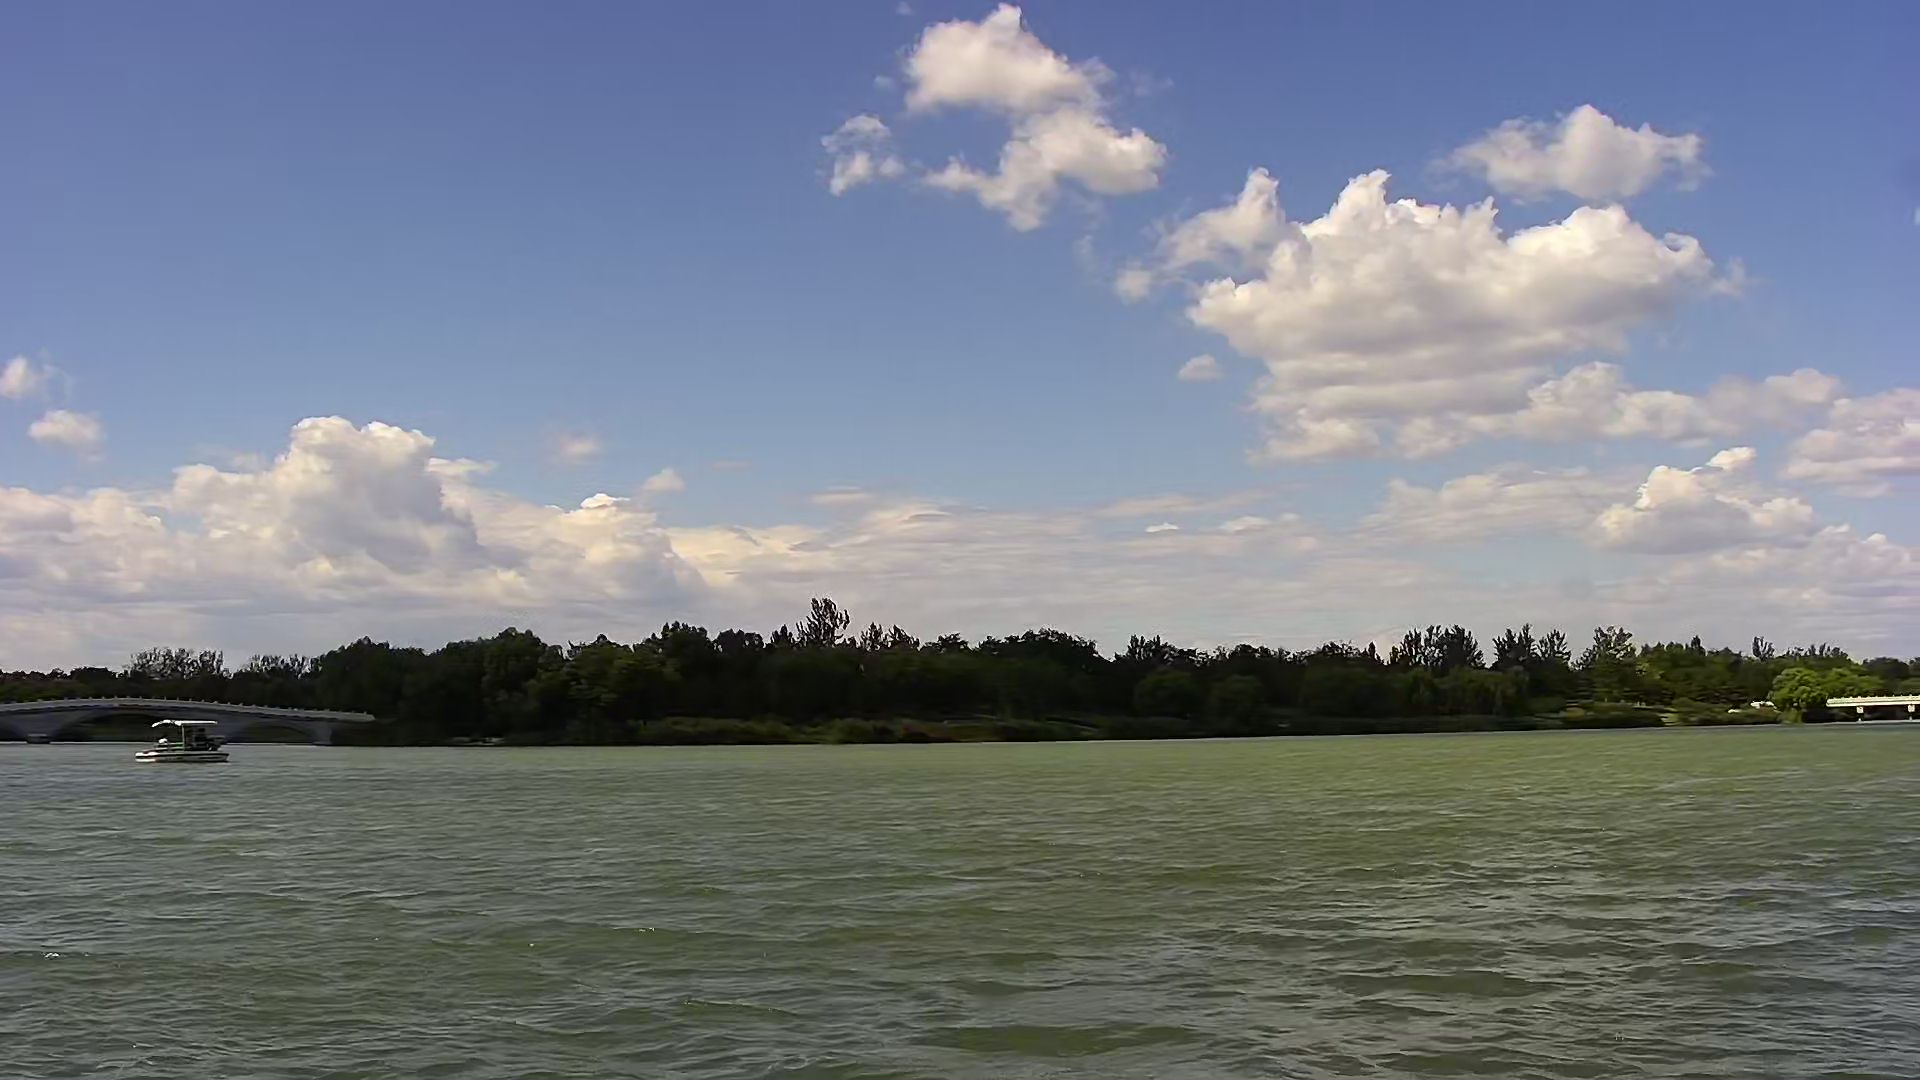boat: (133, 713, 233, 767)
bridge: (1, 692, 373, 753), (1820, 688, 1920, 731)
